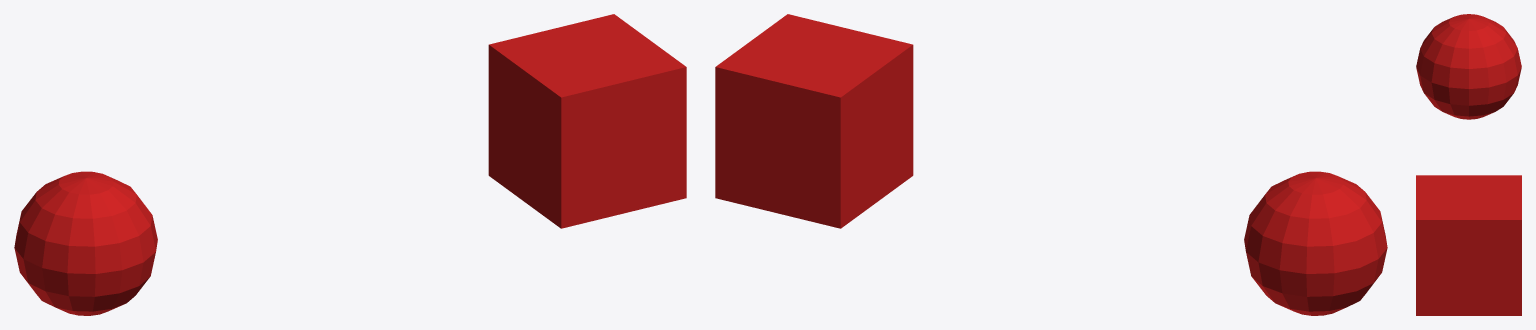
Rendered from two_objects_blender.obj.
The picture shows the model from 3 angles, left to right: view 1: azimuth 30°, elevation 25°; view 2: azimuth 150°, elevation 25°; view 3: azimuth 270°, elevation 25°; orthographic projection. The views are drawn at different scales.
Visible parts, largest first — view 1: Box, Ball; view 2: Box, Ball; view 3: Box, Ball.
Boxes of the visible parts, x1,y1,x2,y2 form: Box: (488, 14, 686, 228); Ball: (14, 171, 157, 315); Box: (715, 14, 913, 228); Ball: (1244, 171, 1387, 315); Box: (1416, 175, 1521, 315); Ball: (1416, 14, 1521, 119).
Bounding box in the file's own units: 5 × 1 × 1.
